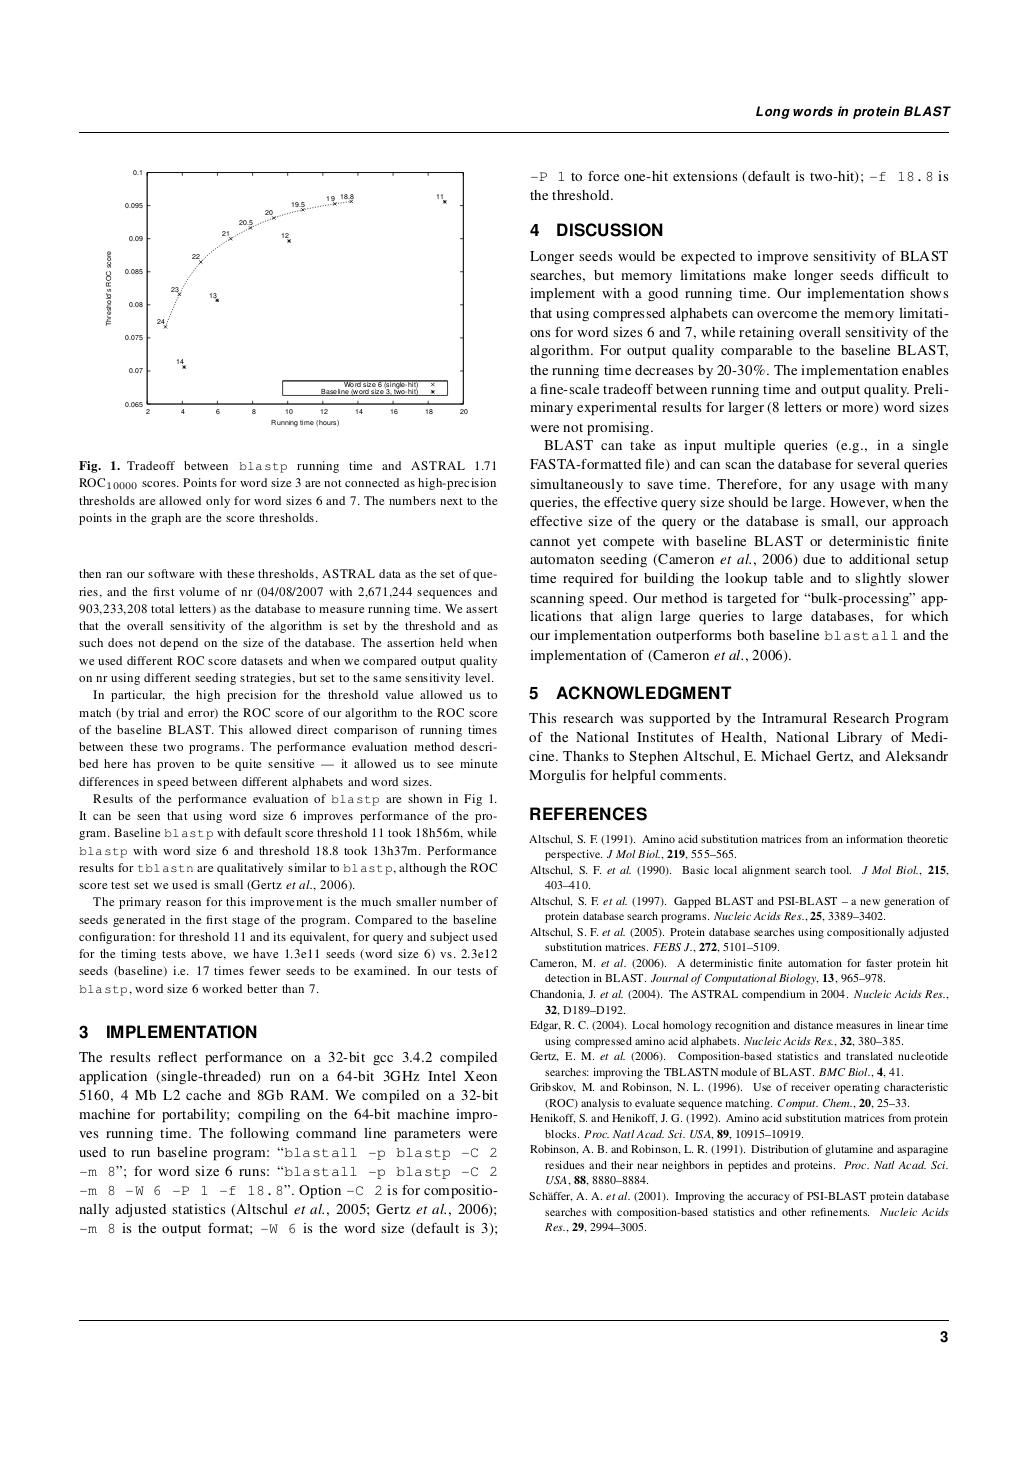figure: (103, 167, 468, 427)
